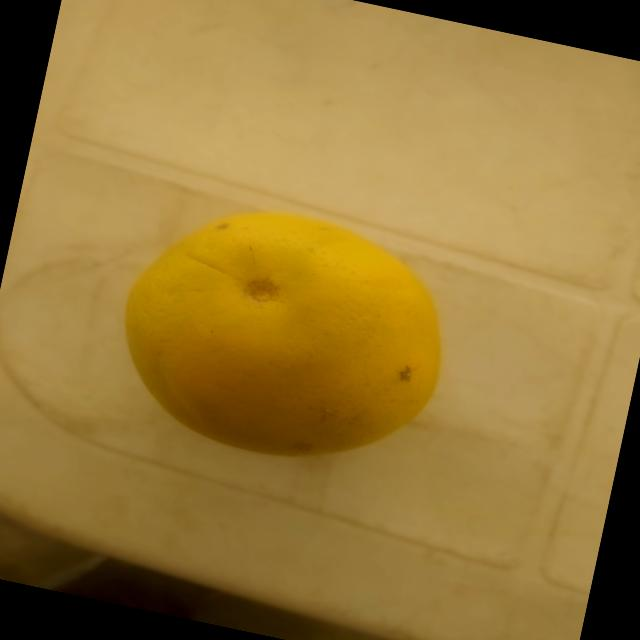Ripe orange: (75, 163, 486, 512)
